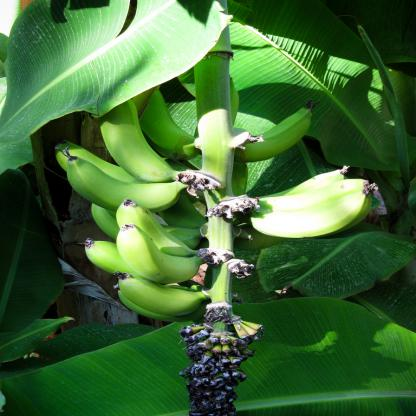Banana: (51, 73, 377, 321), (56, 145, 190, 211)
